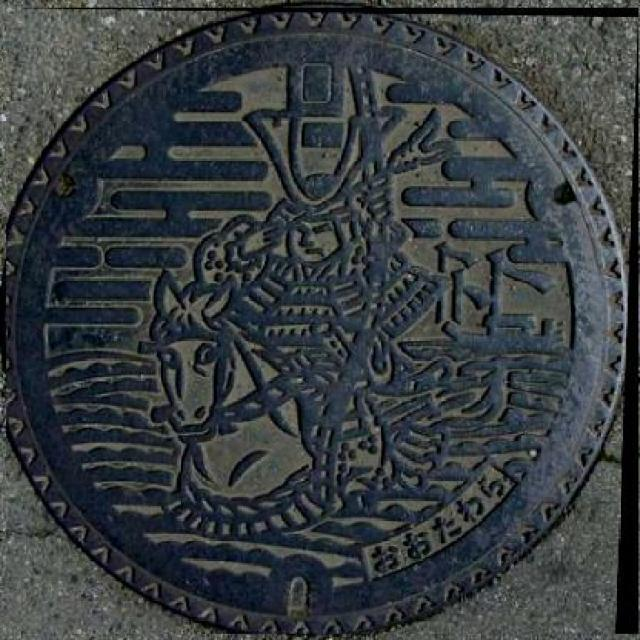Manhole: (6, 8, 639, 634)
